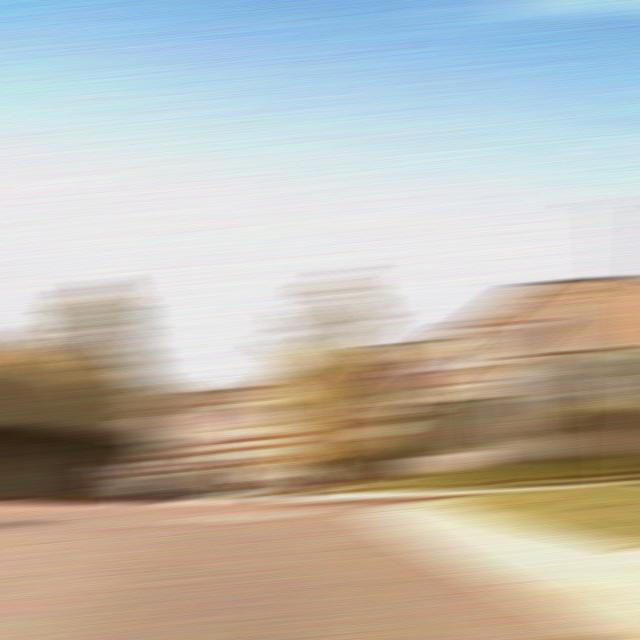stop_sign: (373, 366, 425, 401)
